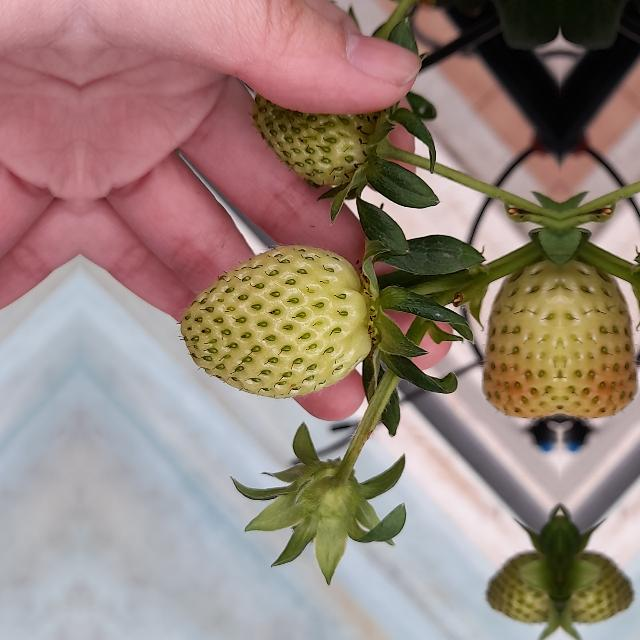Health_25: (181, 246, 371, 398), (250, 88, 386, 192), (481, 250, 559, 422), (561, 250, 639, 422)
